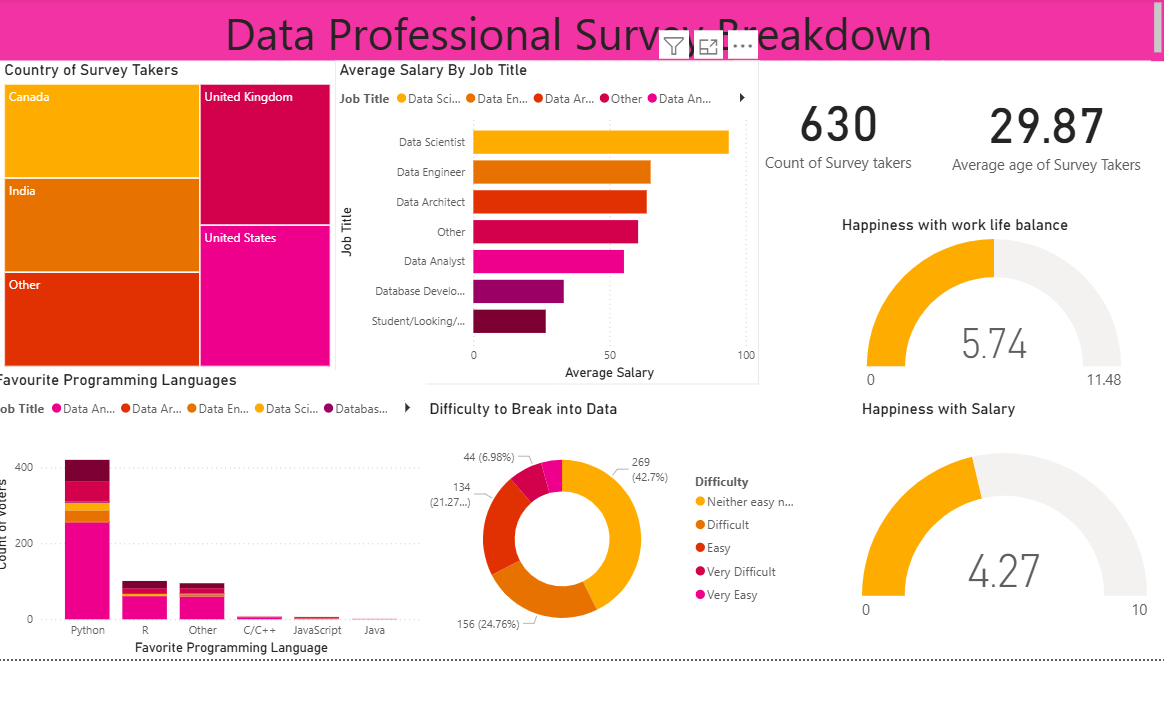

What the dashboard file says about the page in this screenshot:
{"tool":"powerbi","page":{"name":"Page 1","canvas":[1280,720],"ordinal":0},"visuals":[{"type":"textbox","box":[9.6,0,1270.7,68.6],"z":0},{"type":"card","fields":{"Values":["Count(Data Professional Survey.Unique ID)"]},"box":[809.6,68.6,227.8,145.5],"z":1000},{"type":"card","fields":{"Values":["Avg(Data Professional Survey.Q10 - Current Age)"]},"box":[1037.4,68.6,226.4,149.6],"z":2000},{"type":"barChart","title":"Average Salary By Job Title","fields":{"Category":["Data Professional Survey.Q1 - Which Title Best Fits your Current Role?.1"],"Y":["Avg(Data Professional Survey.Average Salary)"],"Series":["Data Professional Survey.Q1 - Which Title Best Fits your Current Role?.1"]},"box":[375.1,67.9,462.2,352.9],"z":3000},{"type":"columnChart","title":"Favourite Programming Languages","fields":{"Category":["Data Professional Survey.Q5 - Favorite Programming Language.1"],"Y":["CountNonNull(Data Professional Survey.Unique ID)"],"Series":["Data Professional Survey.Q1 - Which Title Best Fits your Current Role?.1"]},"box":[0,406.1,474,314.5],"z":4000},{"type":"treemap","title":"Country of Survey Takers","fields":{"Values":["Count(Data Professional Survey.Q11 - Which Country do you live in?.1)"],"Group":["Data Professional Survey.Q11 - Which Country do you live in?.1"]},"box":[10.3,67.9,364.7,338.2],"z":5000},{"type":"gauge","title":"Happiness with work life balance","fields":{"Y":["Avg(Data Professional Survey.Q6 - How Happy are you in your Current Position with the following? (Work/Life Balance))"],"MinValue":["Min(Data Professional Survey.Q6 - How Happy are you in your Current Position with the following? (Work/Life Balance))1"]},"box":[922.9,236.3,341.1,200.8],"z":6000},{"type":"gauge","title":"Happiness with Salary","fields":{"MinValue":["Min(Data Professional Survey.Q6 - How Happy are you in your Current Position with the following? (Salary))"],"MaxValue":["Max(Data Professional Survey.Q6 - How Happy are you in your Current Position with the following? (Salary))"],"Y":["Avg(Data Professional Survey.Q6 - How Happy are you in your Current Position with the following? (Salary))"]},"box":[943.6,437.1,320.4,283.5],"z":7000},{"type":"donutChart","title":"Difficulty to Break into Data","fields":{"Category":["Data Professional Survey.Q7 - How difficult was it for you to break into Data?"],"Y":["CountNonNull(Data Professional Survey.Q7 - How difficult was it for you to break into Data?)"]},"box":[474,437.1,423.8,283.5],"z":8000}]}

Visuals, with their boxes on the page's 1280x720 design canvas (x1, y1, x2, y2). These are canvas units, not pixel positions in the 1164x727 screenshot, which may show the page scaled, cropped or inside an application window:
textbox: bbox(10, 0, 1280, 69)
card - Count(Data Professional Survey.Unique ID): bbox(810, 69, 1037, 214)
card - Avg(Data Professional Survey.Q10 - Current Age): bbox(1037, 69, 1264, 218)
"Average Salary By Job Title" barChart: bbox(375, 68, 837, 421)
"Favourite Programming Languages" columnChart: bbox(0, 406, 474, 721)
"Country of Survey Takers" treemap: bbox(10, 68, 375, 406)
"Happiness with work life balance" gauge: bbox(923, 236, 1264, 437)
"Happiness with Salary" gauge: bbox(944, 437, 1264, 721)
"Difficulty to Break into Data" donutChart: bbox(474, 437, 898, 721)
